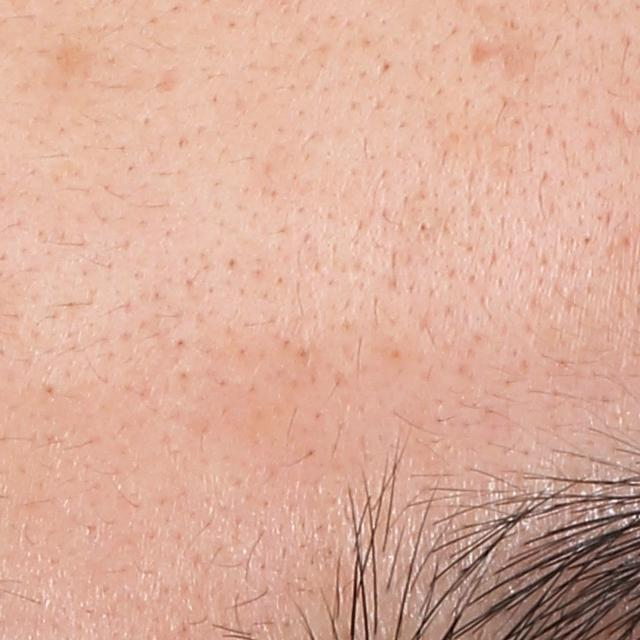atrophic_scar: (464, 1, 541, 83), (610, 105, 636, 138)
comedo: (415, 215, 434, 235)
